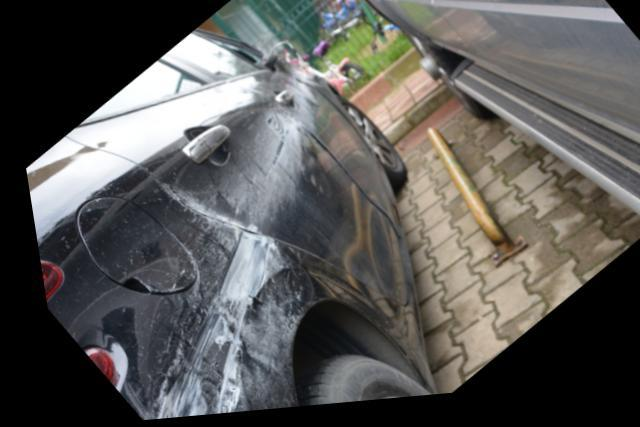rub: (139, 190, 288, 421)
